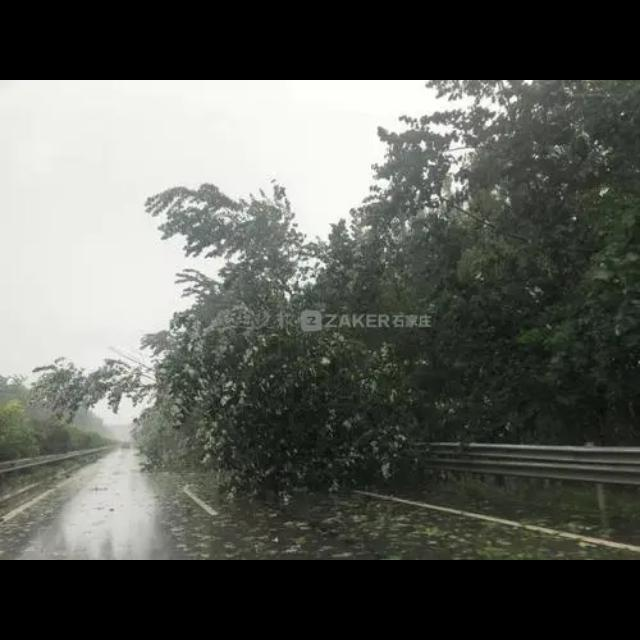fallen_tree: (156, 270, 462, 494)
